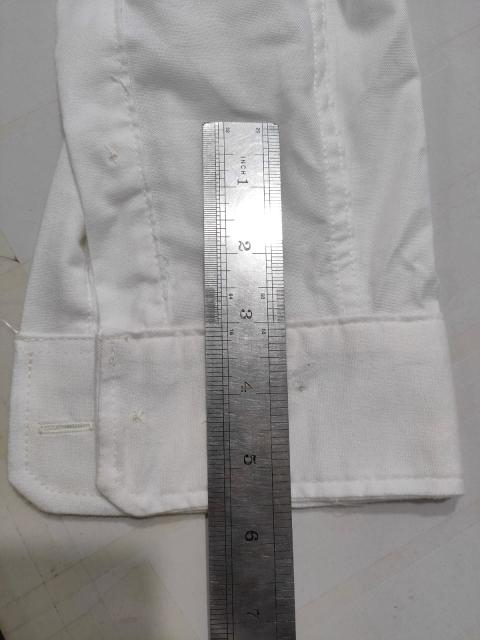Dirty_mark: (287, 360, 321, 395)
